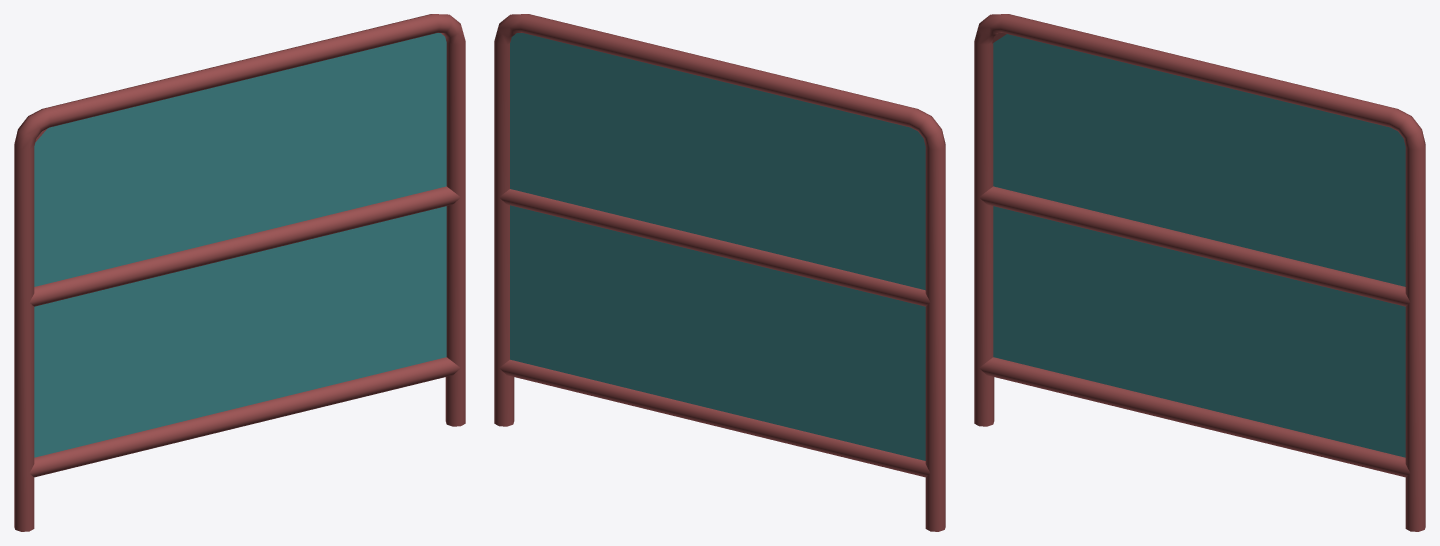
File: G_Fence_001_S1.FBX
3 views of the same model, side by side, from view 1: azimuth 30°, elevation 25°; view 2: azimuth 150°, elevation 25°; view 3: azimuth 330°, elevation 25° (orthographic).
Parts seen in each view (by area): view 1: S_M_Ornament_Fence001_4x1x4_LOD0; view 2: S_M_Ornament_Fence001_4x1x4_LOD0; view 3: S_M_Ornament_Fence001_4x1x4_LOD0.
Boxes of the visible parts, left/top/right/bottom form: S_M_Ornament_Fence001_4x1x4_LOD0: left=14, top=14, right=465, bottom=531; S_M_Ornament_Fence001_4x1x4_LOD0: left=494, top=14, right=945, bottom=531; S_M_Ornament_Fence001_4x1x4_LOD0: left=974, top=14, right=1425, bottom=531.
Bounding box in the file's own units: 400 × 352 × 16.
